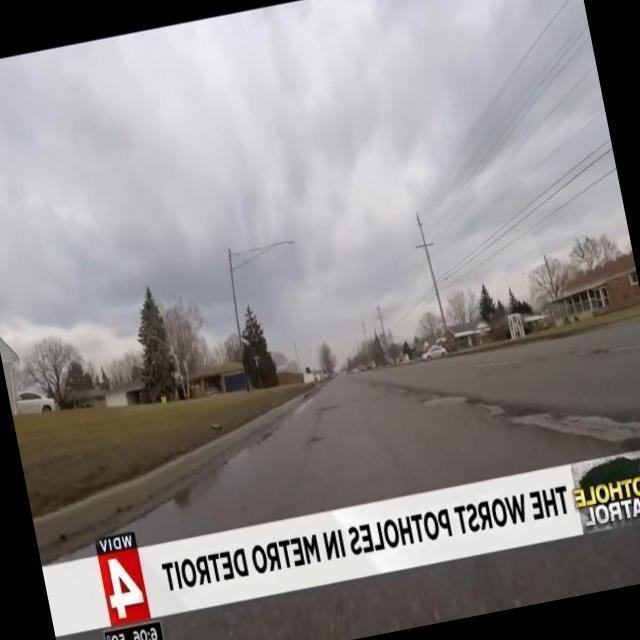Pothole: (508, 407, 640, 446)
